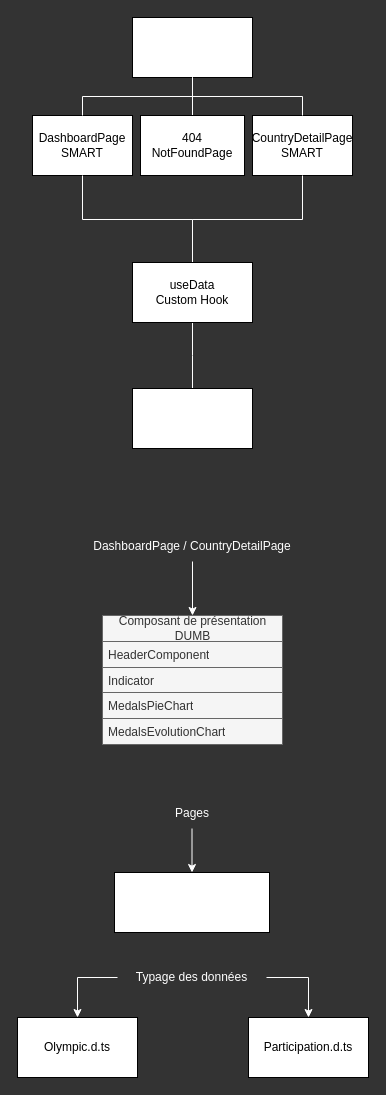
This 386x1095 diagram has some shape labels left out. Here are the shapes that lost their labels. From the top down, the centre of each, then its label:
At point 192,47: "App.tsx Routage".
At point 192,418: "olympics.json Données mockées".
At point 192,902: "olympicCalculations.ts Fonction utilitaires".
